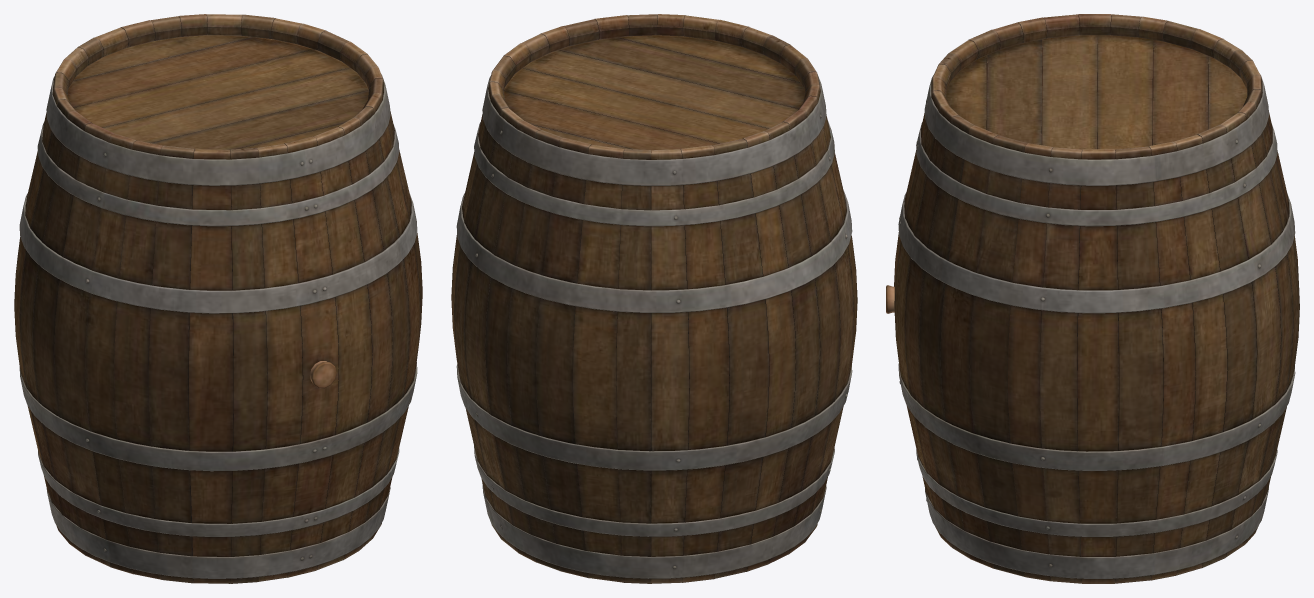
File: wine_barrel_01_1k.glb
3 views of the same model, side by side, from view 1: azimuth 30°, elevation 25°; view 2: azimuth 150°, elevation 25°; view 3: azimuth 270°, elevation 25° (orthographic).
Parts seen in each view (by area): view 1: wine_barrel_01, wine_barrel_01_Lid, wine_barrel_01_bung; view 2: wine_barrel_01, wine_barrel_01_Lid; view 3: wine_barrel_01, wine_barrel_01_Lid.
Part boxes in pixels (x1,y1,x2,y2): wine_barrel_01: [14, 14, 422, 583]; wine_barrel_01_Lid: [67, 35, 368, 149]; wine_barrel_01_bung: [310, 361, 336, 388]; wine_barrel_01: [451, 14, 857, 583]; wine_barrel_01_Lid: [503, 35, 805, 152]; wine_barrel_01: [894, 14, 1299, 583]; wine_barrel_01_Lid: [946, 35, 1247, 149].
Size of the model in its own units: 0.7419 by 0.8713 by 0.756.
1 material, 1 textured.
